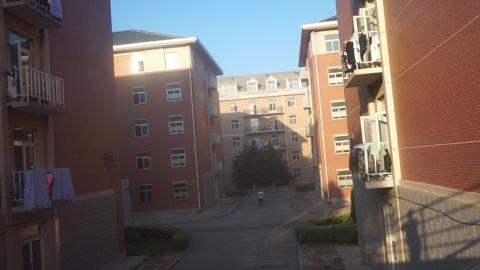UAV: (206, 108, 212, 112)
